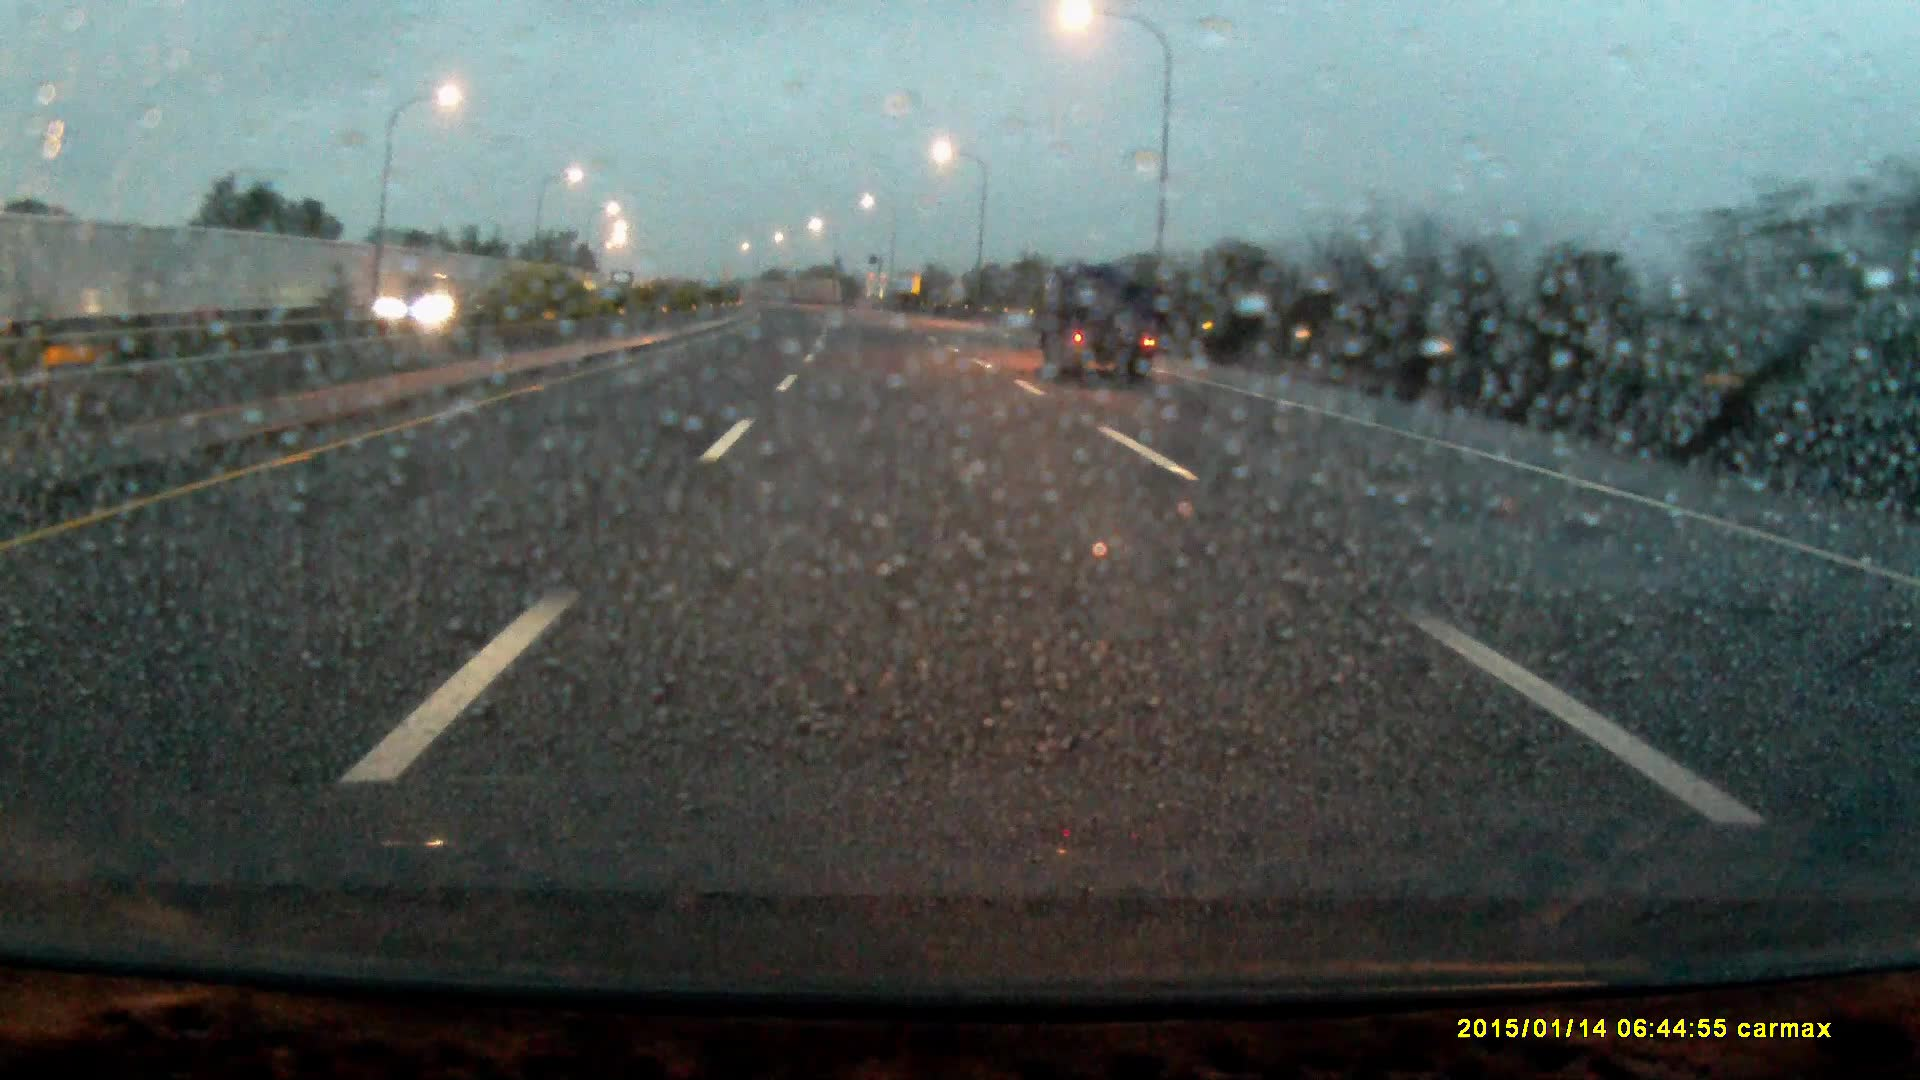vehicle: (1043, 269, 1156, 380), (365, 276, 467, 328), (612, 269, 636, 291)
